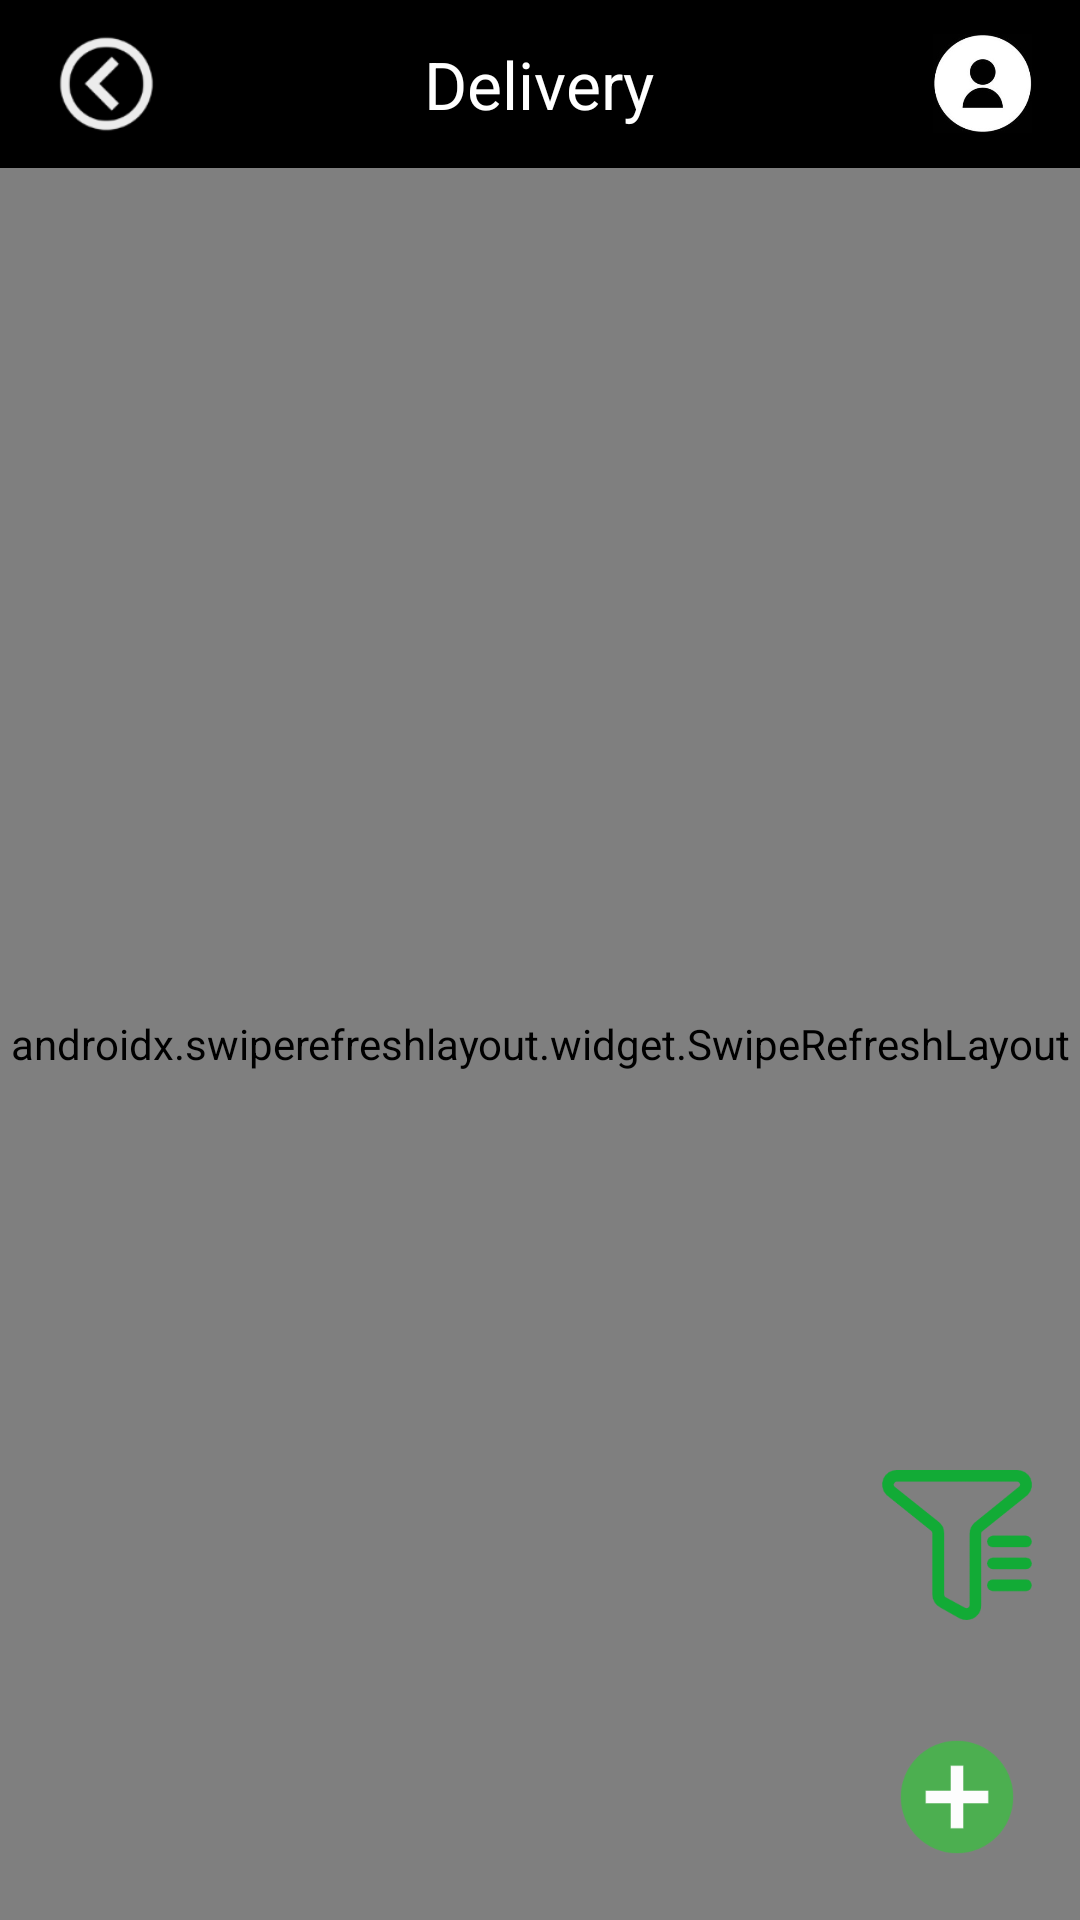

Named icons in this screenshot (1080x1920) and their bounding boxes, [x1=x1, y1=y1, x2=x2, y2=y2]:
account: [x1=934, y1=35, x2=1031, y2=132]
add: [x1=901, y1=1741, x2=1013, y2=1853]
back: [x1=60, y1=37, x2=153, y2=131]
filter: [x1=882, y1=1470, x2=1032, y2=1620]
